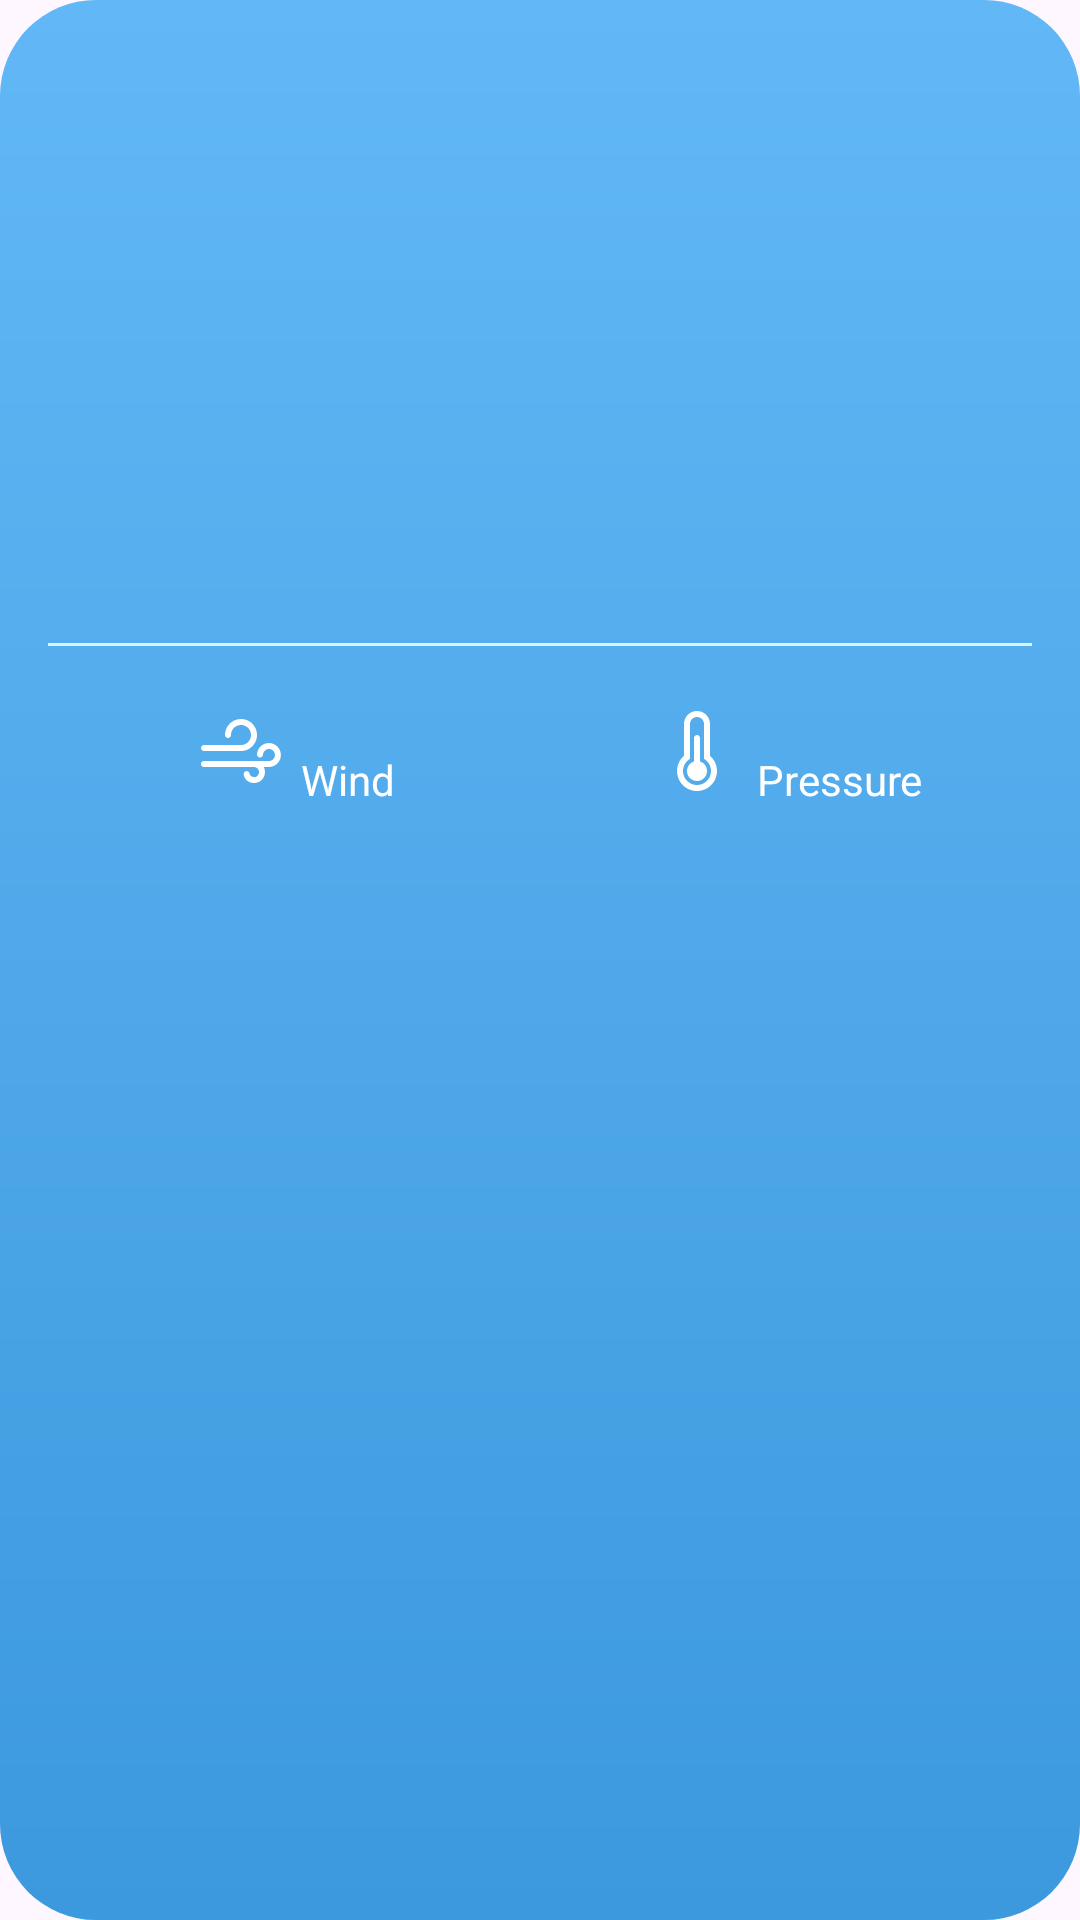

Icon bounding boxes for this 1080px×1920px phone screenshot, format [x1, y1, x2, y2]:
fluent temperature: [677, 711, 717, 791]
fluent weather squalls: [201, 719, 281, 783]
